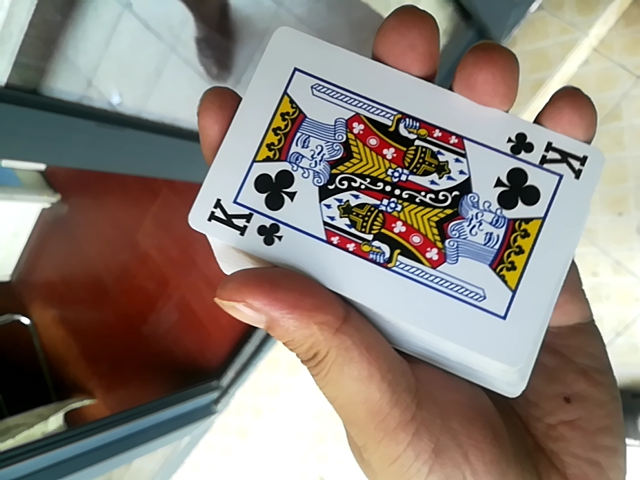mh k: (178, 15, 625, 374)
